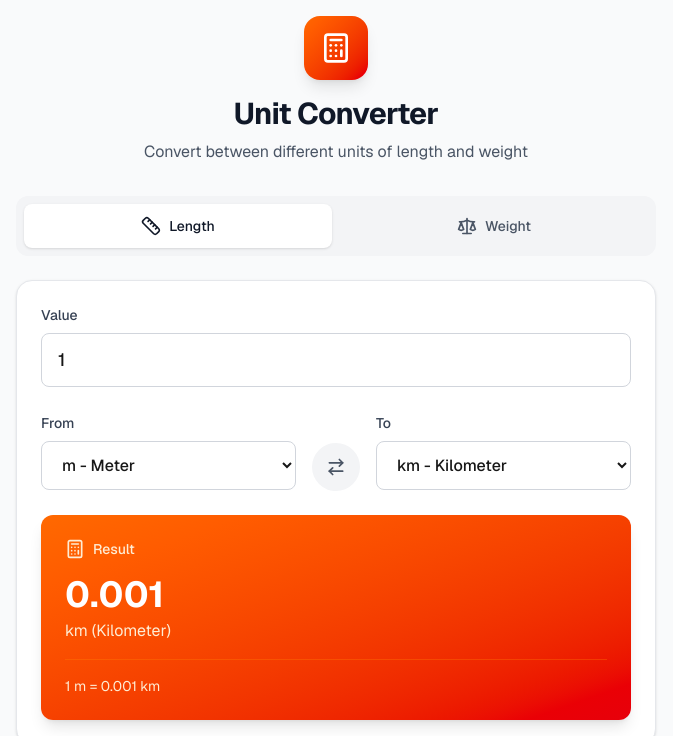
Test: UnitConverter › swaps from and to units
This screenshot has width=673, height=736.
What coordinates should you click on to do the following:
click the button named "Swap units"
I would click on:
 (336, 467)
Its box is [312,443,360,491].
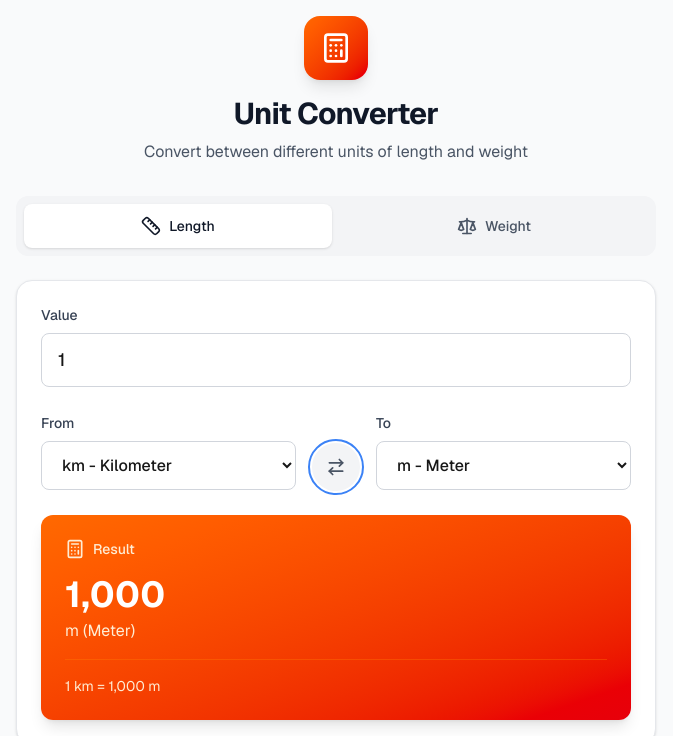
Expected: the dropdown below "From" shows "km - Kilometer", [41,440,296,490]
Expected: the dropdown below "To" shows "m - Meter", [376,440,631,490]
